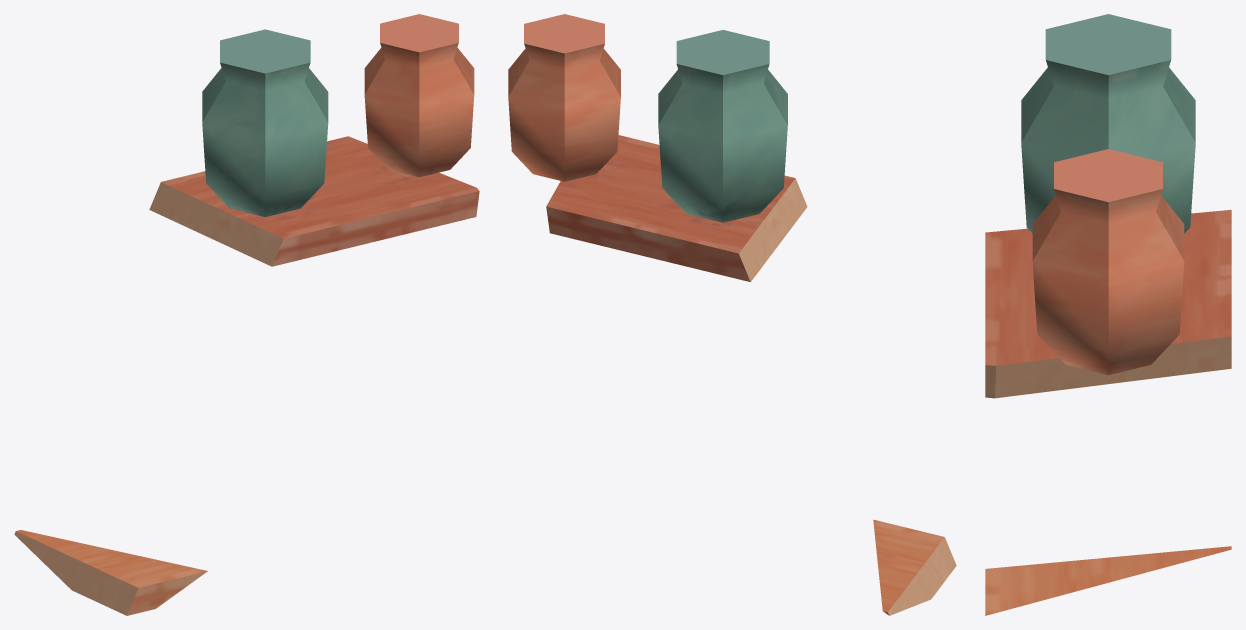
The model's file is shelf_s01.fbx.
3 renders of one model, left to right at view 1: azimuth 30°, elevation 25°; view 2: azimuth 150°, elevation 25°; view 3: azimuth 270°, elevation 25°, orthographic. The views are drawn at different scales.
Parts seen in each view (by area): view 1: shelf_s01; view 2: shelf_s01; view 3: shelf_s01.
Part boxes in pixels (x1,y1,x2,y2): shelf_s01: (14,14,479,615); shelf_s01: (508,14,956,615); shelf_s01: (985,14,1231,615).
Size of the model in its own units: 2.42 by 2.72 by 0.9.
